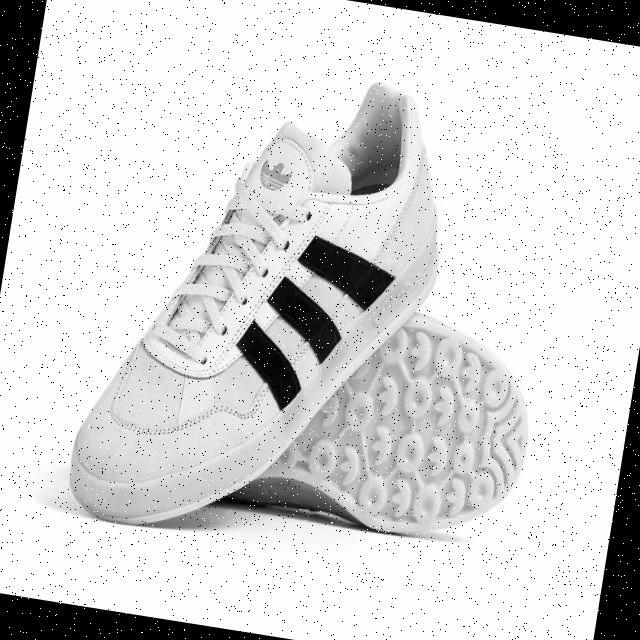Adidas: (251, 145, 302, 205)
